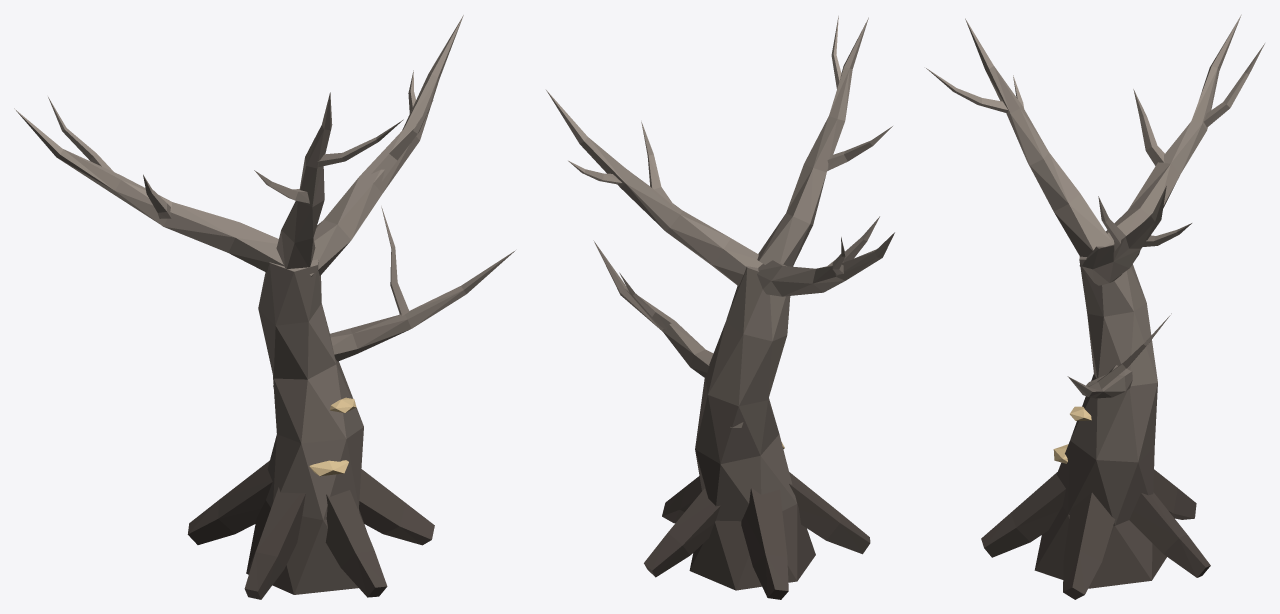
File: tree_dead.glb
The picture shows the model from 3 angles, left to right: view 1: azimuth 30°, elevation 25°; view 2: azimuth 150°, elevation 25°; view 3: azimuth 270°, elevation 25°; orthographic projection. The views are drawn at different scales.
Visible parts, largest first — view 1: tree_dead; view 2: tree_dead; view 3: tree_dead.
Part boxes in pixels (x1,y1,x2,y2): tree_dead: (14, 15, 515, 599); tree_dead: (546, 16, 894, 599); tree_dead: (926, 14, 1264, 599).
Bounding box in the file's own units: 3.35 × 4.19 × 2.49.
